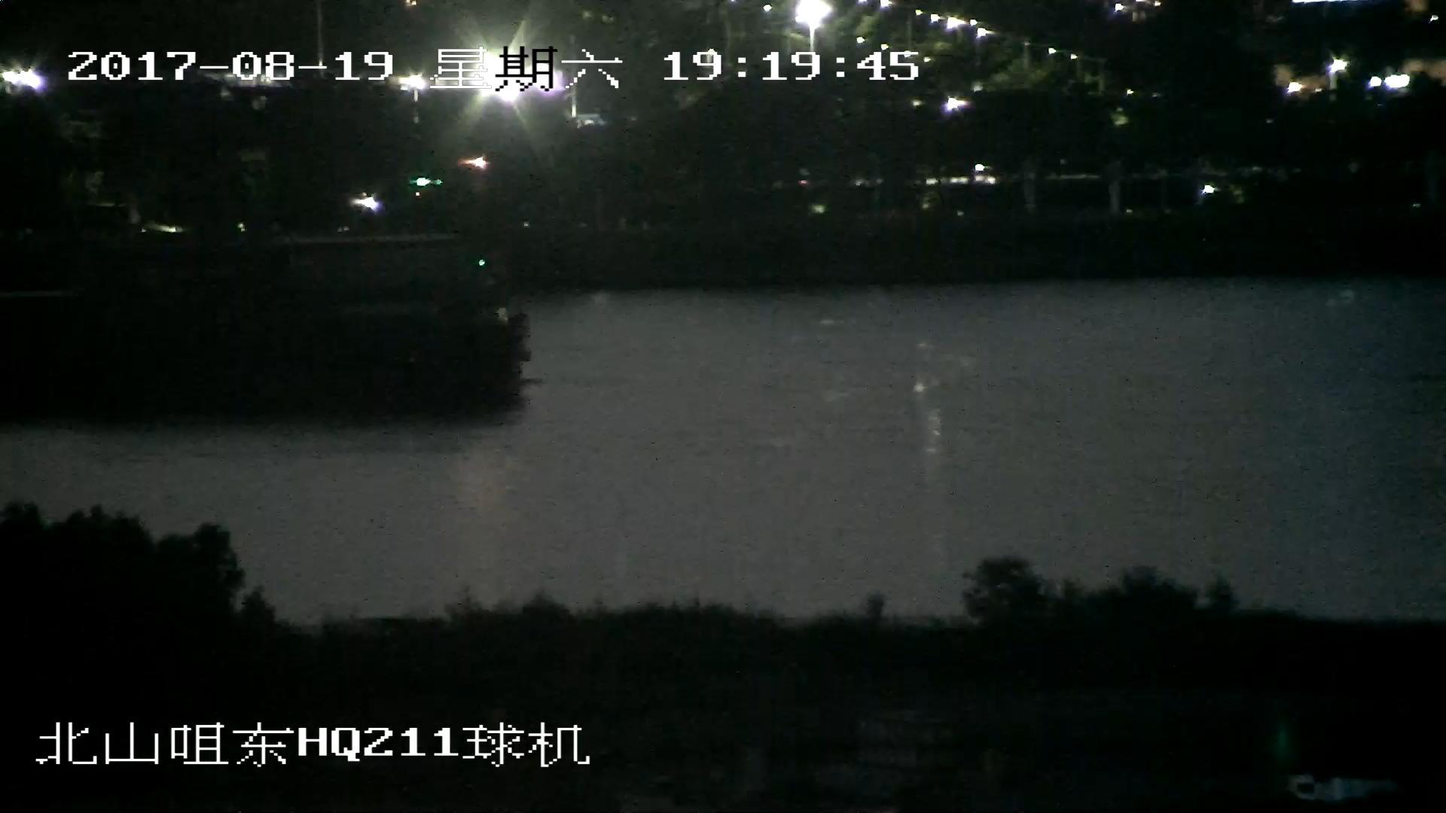container ship: (0, 241, 523, 418)
